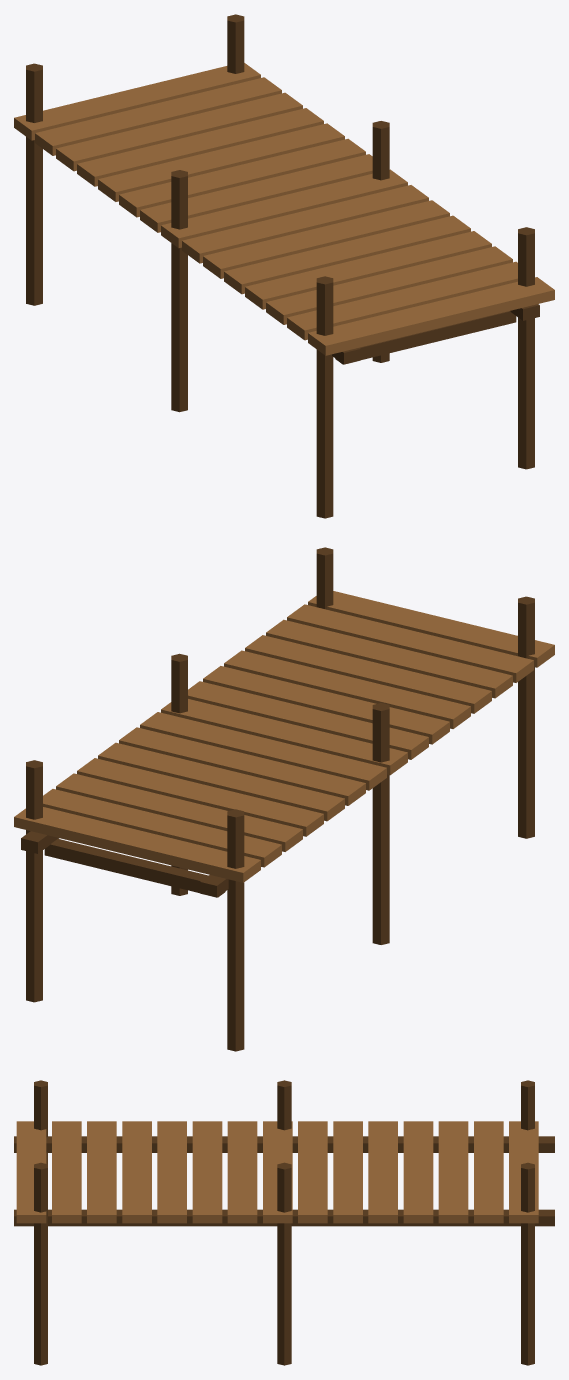
The model's file is Dock2_LOD0_roblox.fbx.
3 renders of one model, top to bottom at view 1: azimuth 30°, elevation 25°; view 2: azimuth 150°, elevation 25°; view 3: azimuth 270°, elevation 25°, orthographic. The views are drawn at different scales.
Visible parts, largest first — view 1: Dock_DockDeckMat_003, Dock_DockStructMat_003; view 2: Dock_DockDeckMat_003, Dock_DockStructMat_003; view 3: Dock_DockDeckMat_003, Dock_DockStructMat_003.
Boxes of the visible parts, x1,y1,x2,y2 form: Dock_DockDeckMat_003: [14, 63, 554, 355]; Dock_DockStructMat_003: [26, 14, 539, 518]; Dock_DockDeckMat_003: [14, 591, 554, 882]; Dock_DockStructMat_003: [21, 547, 534, 1051]; Dock_DockDeckMat_003: [16, 1121, 538, 1223]; Dock_DockStructMat_003: [14, 1080, 554, 1365].
Size of the model in its own units: 4.1 by 10 by 4.
